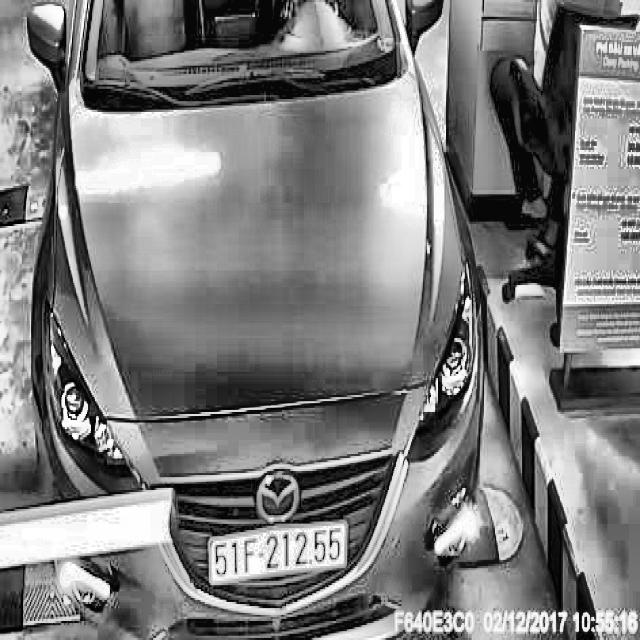plate: (204, 515, 352, 589)
